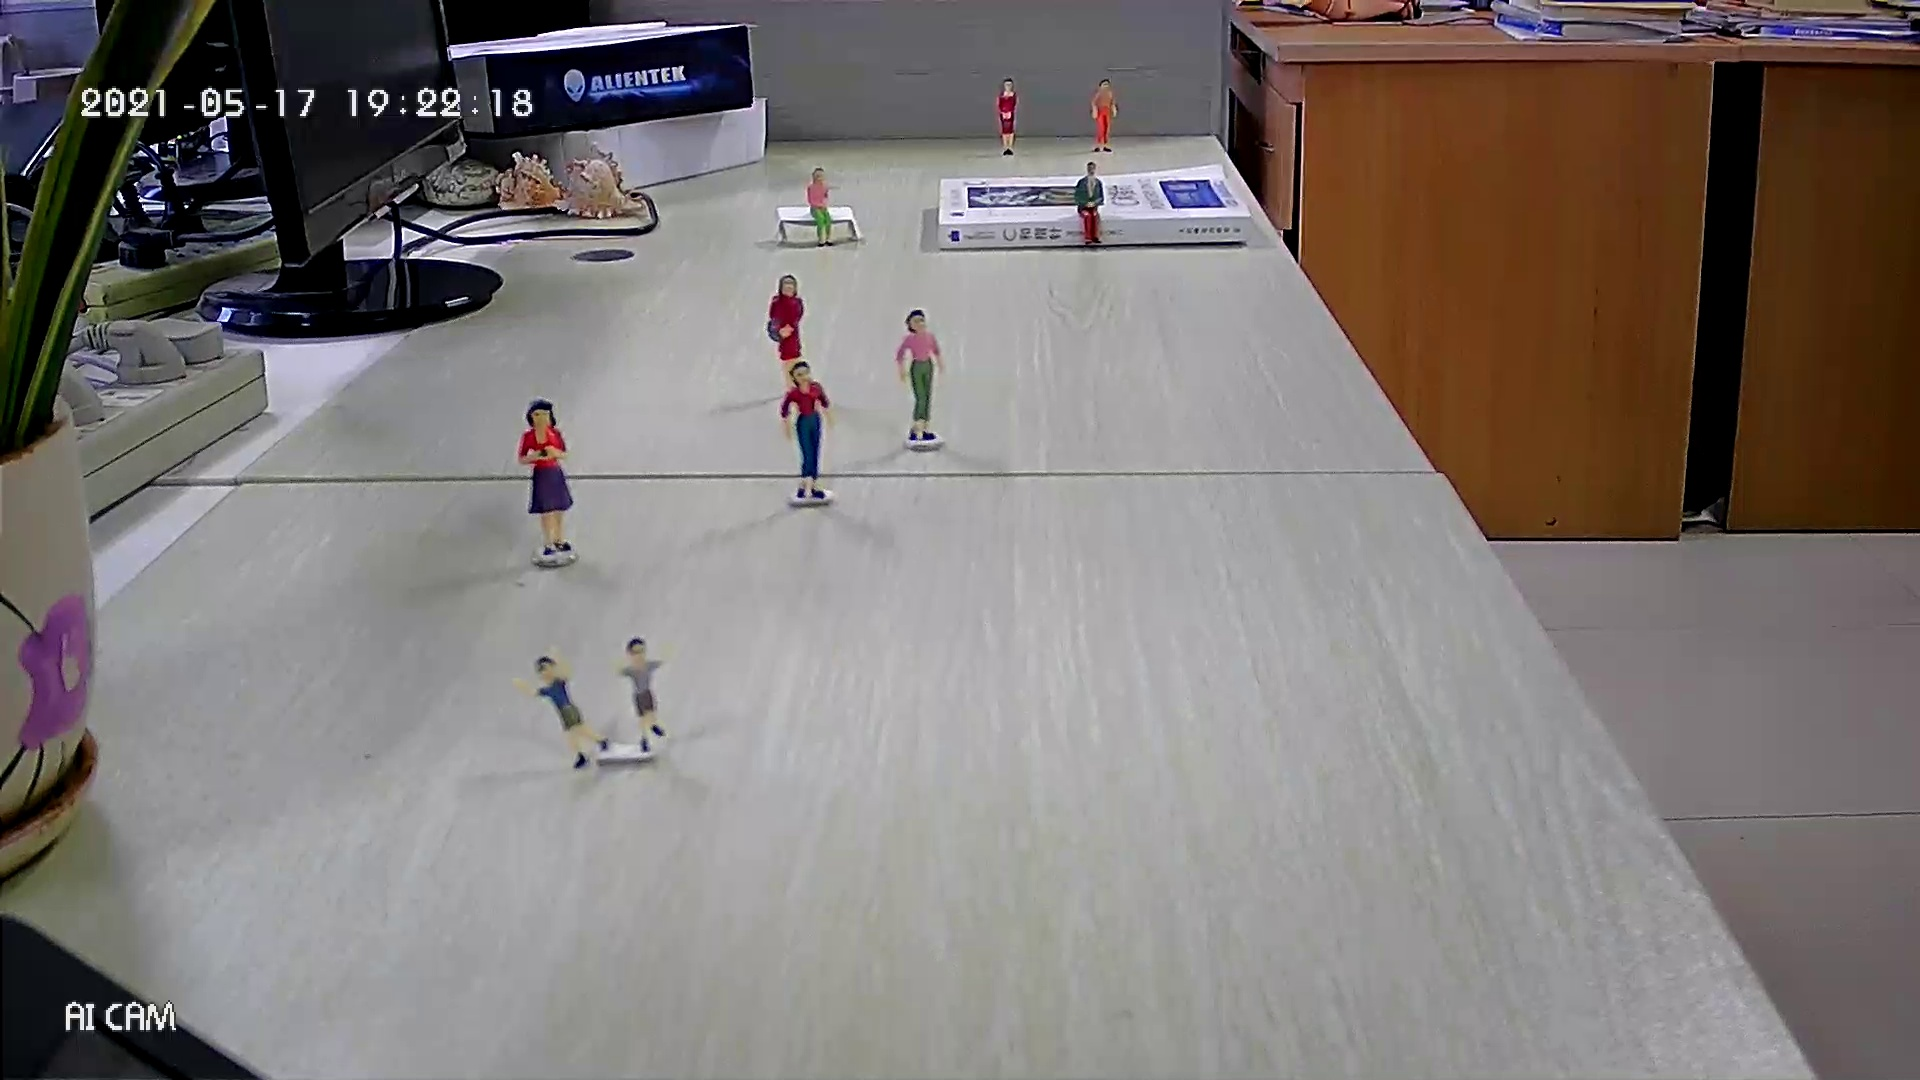person: (507, 652, 613, 770), (515, 396, 579, 558), (773, 356, 839, 502), (605, 632, 679, 756), (889, 302, 947, 444), (763, 270, 807, 394), (1071, 158, 1113, 254), (803, 160, 841, 250), (1089, 74, 1123, 156), (995, 72, 1023, 160)
